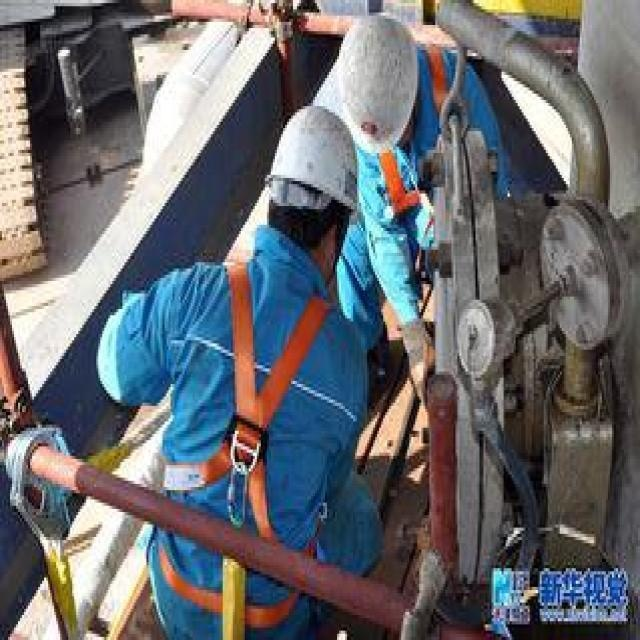Arnes_seguridad: (155, 250, 335, 618)
